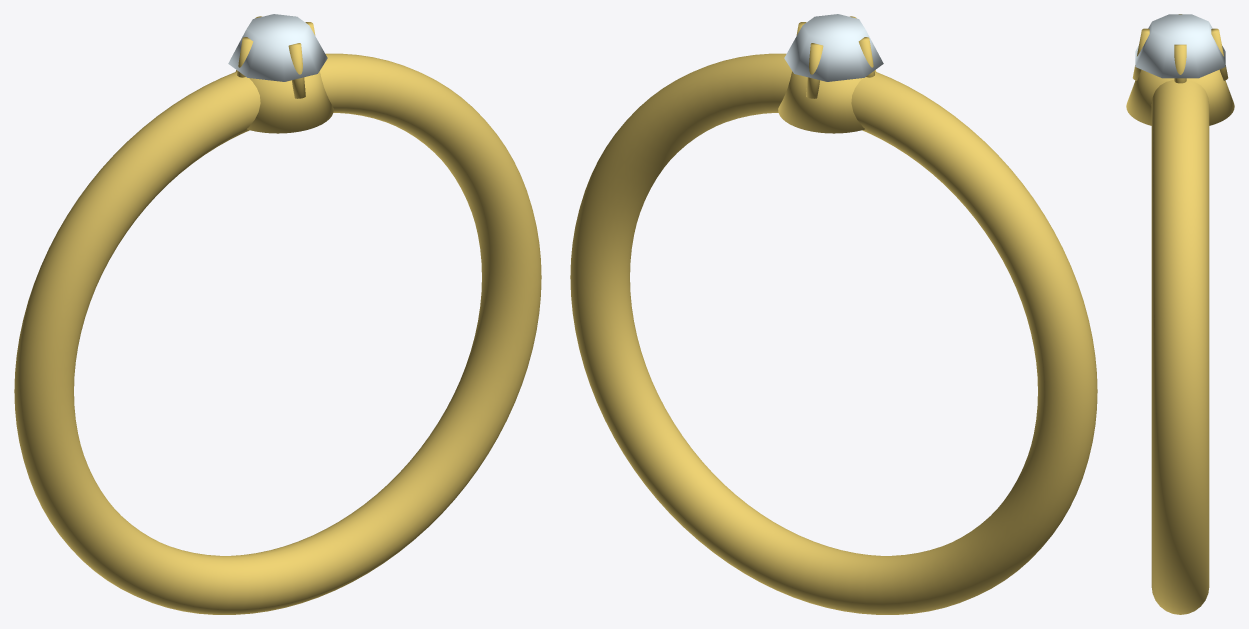
The model's file is hero-ring.glb.
The picture shows the model from 3 angles, left to right: view 1: azimuth 30°, elevation 25°; view 2: azimuth 150°, elevation 25°; view 3: azimuth 270°, elevation 25°; orthographic projection. The views are drawn at different scales.
Visible parts, largest first — view 1: Ring band, Diamond stone, Metal gallery; view 2: Ring band, Diamond stone, Metal gallery; view 3: Ring band, Diamond stone, Metal gallery, Metal prong 1, Metal prong 2, Metal prong 4.
Part boxes in pixels (box(x1,y1,x2,y2)): Ring band: box(14, 53, 541, 614); Diamond stone: box(228, 14, 327, 81); Metal gallery: box(235, 70, 333, 133); Ring band: box(570, 53, 1097, 614); Diamond stone: box(784, 14, 883, 81); Metal gallery: box(778, 70, 876, 133); Ring band: box(1151, 79, 1209, 614); Diamond stone: box(1135, 14, 1225, 78); Metal gallery: box(1126, 69, 1234, 125); Metal prong 1: box(1174, 44, 1186, 83); Metal prong 2: box(1211, 28, 1228, 80); Metal prong 4: box(1132, 28, 1149, 80).
Size of the model in its own units: 3.22 by 3.43 by 0.6.
